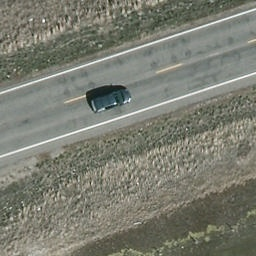car: (90, 89, 134, 113)
